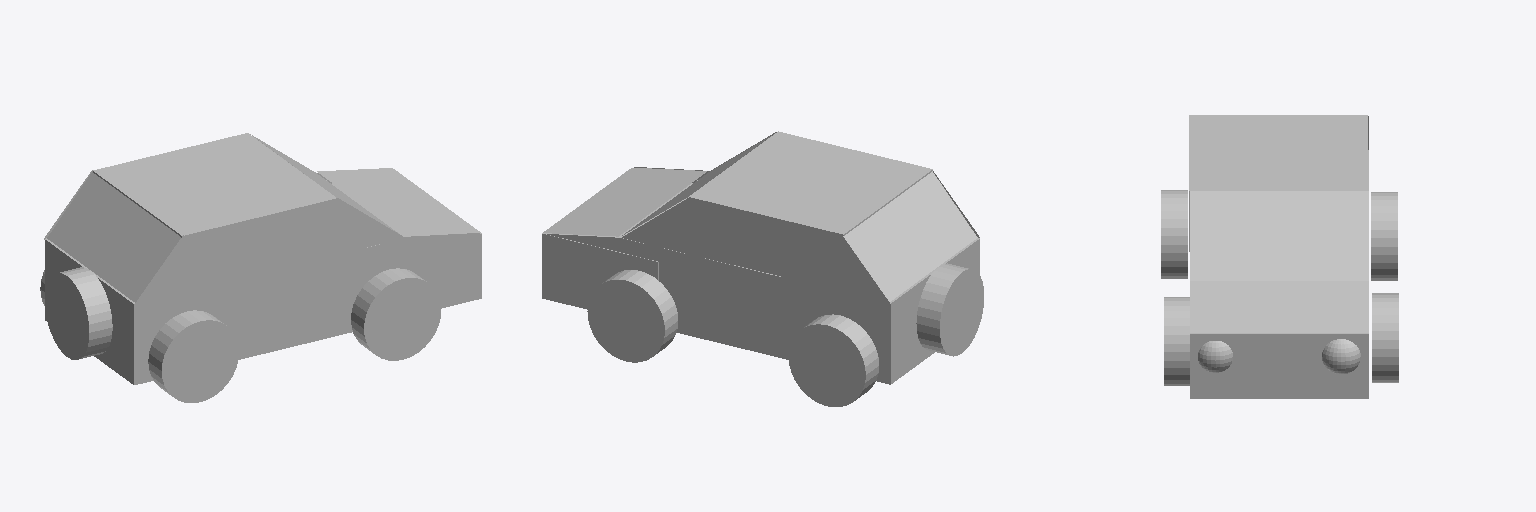
Rendered from car.obj.
3 views of the same model, side by side, from view 1: azimuth 30°, elevation 25°; view 2: azimuth 150°, elevation 25°; view 3: azimuth 270°, elevation 25° (orthographic).
Visible parts, largest first — view 1: Cube.001, Cube, Plane.003_Plane.004, Cylinder, Cylinder.001, Plane.006_Plane.007, Cylinder.004, Plane.004_Plane.005, Plane.007_Plane.008, Plane.002_Plane.003, Cube.002, Plane; view 2: Cube.001, Cube, Plane.003_Plane.004, Cylinder.003, Cylinder.002, Plane.005_Plane.006, Plane.006_Plane.007, Cylinder.004, Cube.002, Plane.001_Plane.002, Plane, Plane.008_Plane.009; view 3: Plane, Cube.001, Cube.002, Plane.006_Plane.007, Cylinder.002, Cylinder, Cylinder.003, Cylinder.001, Sphere, Sphere.001.
Boxes of the visible parts, box(x1,y1,x2,y2) form: Cube.001: box(93, 133, 336, 296); Cube: box(45, 176, 404, 384); Plane.003_Plane.004: box(47, 171, 180, 302); Cylinder: box(148, 310, 238, 402); Cylinder.001: box(351, 268, 440, 360); Plane.006_Plane.007: box(317, 168, 480, 236); Cylinder.004: box(45, 267, 112, 359); Plane.004_Plane.005: box(134, 235, 243, 324); Plane.007_Plane.008: box(404, 233, 479, 276); Plane.002_Plane.003: box(337, 198, 403, 254); Cube.002: box(332, 183, 481, 308); Plane: box(250, 134, 398, 233); Cube.001: box(689, 131, 932, 276); Cube: box(619, 176, 979, 384); Plane.003_Plane.004: box(843, 171, 977, 301); Cylinder.003: box(788, 314, 878, 406); Cylinder.002: box(587, 270, 677, 362); Plane.005_Plane.006: box(779, 236, 890, 325); Plane.006_Plane.007: box(543, 168, 706, 236); Cylinder.004: box(916, 263, 983, 356); Cube.002: box(542, 183, 692, 309); Plane.001_Plane.002: box(622, 198, 731, 264); Plane: box(622, 134, 773, 235); Plane.008_Plane.009: box(547, 234, 618, 251); Plane: box(1190, 191, 1368, 280); Cube.001: box(1189, 115, 1367, 251); Cube.002: box(1190, 333, 1368, 398); Plane.006_Plane.007: box(1190, 281, 1368, 332); Cylinder.002: box(1372, 293, 1398, 382); Cylinder: box(1161, 190, 1187, 278); Cylinder.003: box(1371, 192, 1397, 280); Cylinder.001: box(1164, 297, 1189, 385); Sphere: box(1322, 339, 1360, 373); Sphere.001: box(1198, 341, 1232, 372).
Size of the model in its own units: 9.88 by 4.09 by 5.3.